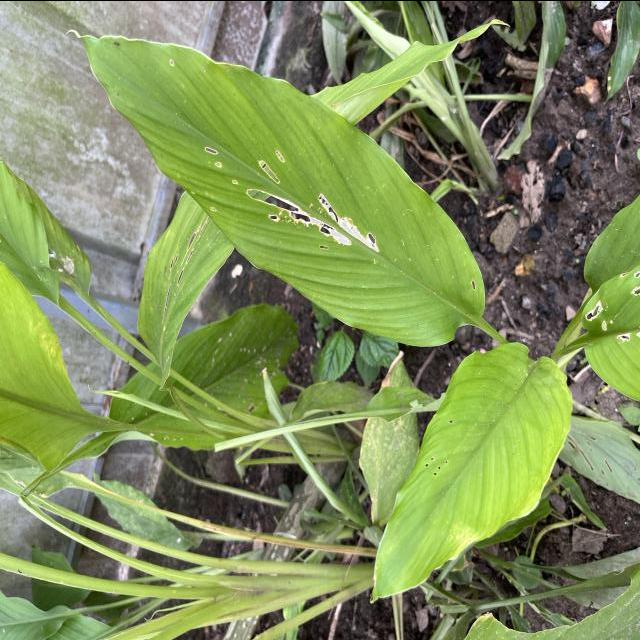Curcuma longa: (54, 24, 494, 354), (360, 334, 578, 612)
